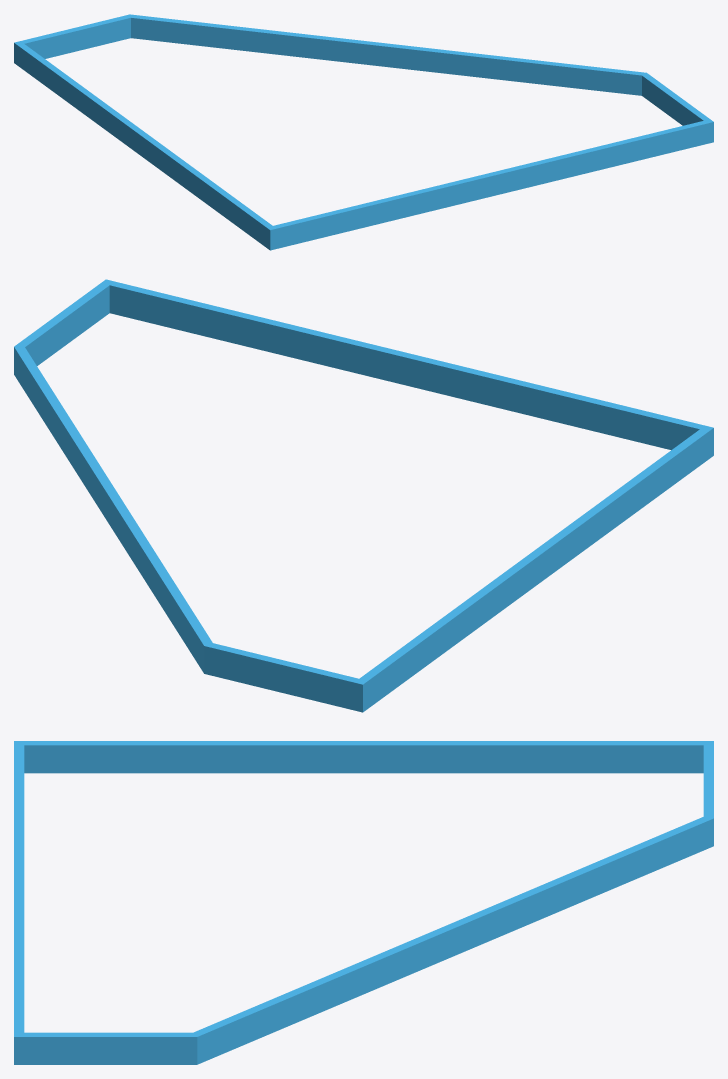
File: background.dae
3 views of the same model, one above another, from view 1: azimuth 30°, elevation 25°; view 2: azimuth 150°, elevation 25°; view 3: azimuth 270°, elevation 25° (orthographic). The views are drawn at different scales.
Parts seen in each view (by area): view 1: harambe-wall; view 2: harambe-wall; view 3: harambe-wall.
Part boxes in pixels (x1,y1,x2,y2): harambe-wall: (14, 14, 713, 250); harambe-wall: (14, 279, 713, 712); harambe-wall: (14, 741, 713, 1064).
Bounding box in the file's own units: 10.42 × 10.42 × 0.4572.
1 material, 1 textured.
